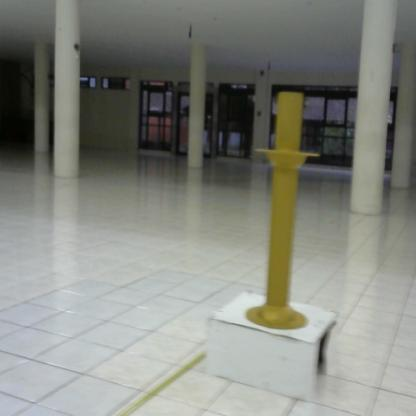pole: (247, 88, 321, 334)
